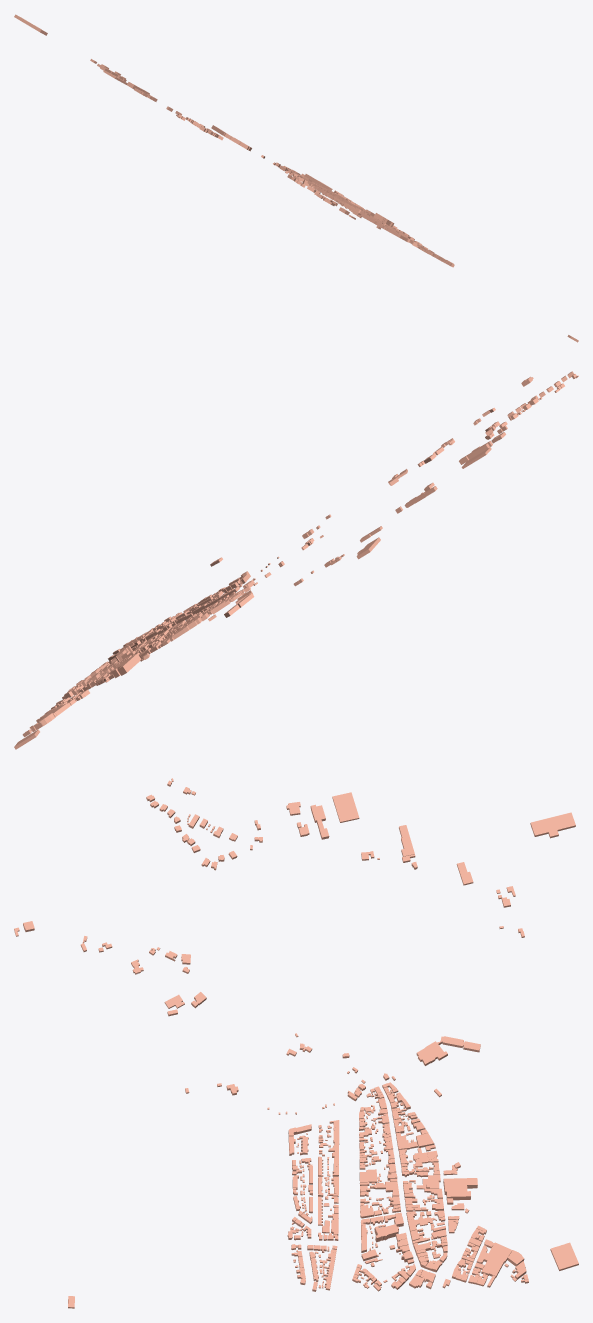
The picture shows the model from 3 angles, top to bottom: view 1: azimuth 30°, elevation 25°; view 2: azimuth 150°, elevation 25°; view 3: azimuth 270°, elevation 25°; orthographic projection. The views are drawn at different scales.
Bounding box in the file's own units: 952 × 716 × 1118.
